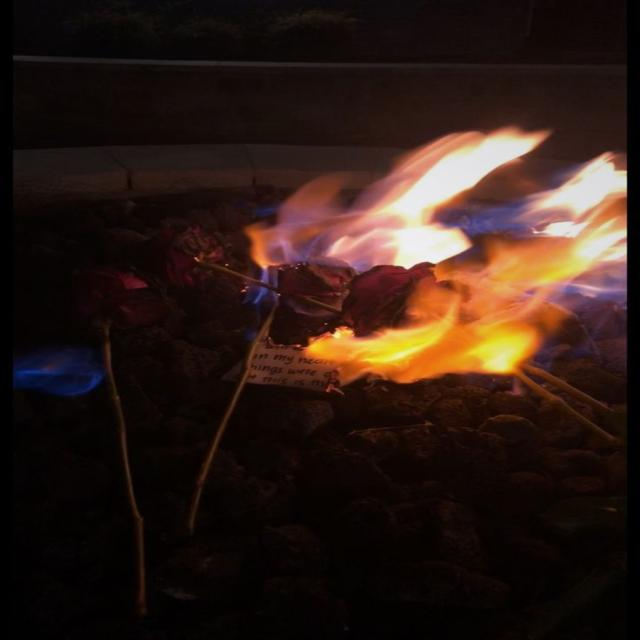fire: (247, 125, 549, 268), (415, 152, 628, 286), (301, 283, 568, 380)
